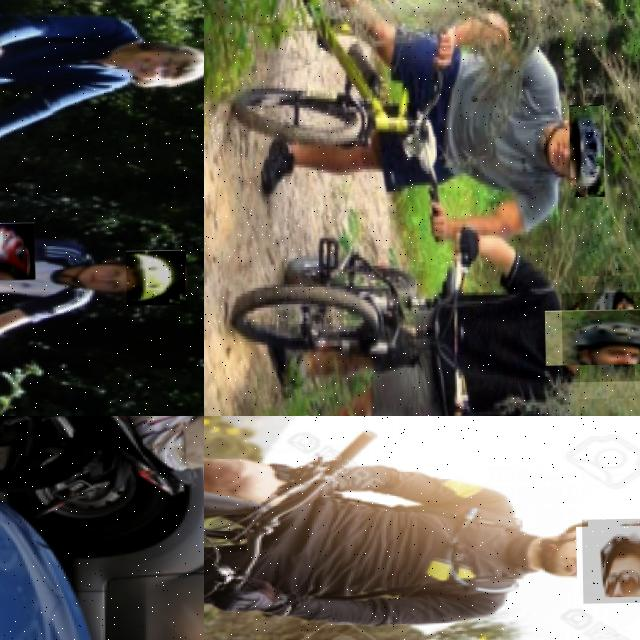helmet: (560, 291, 640, 382), (580, 518, 640, 603), (124, 249, 185, 305), (568, 104, 604, 197), (0, 222, 33, 281)
